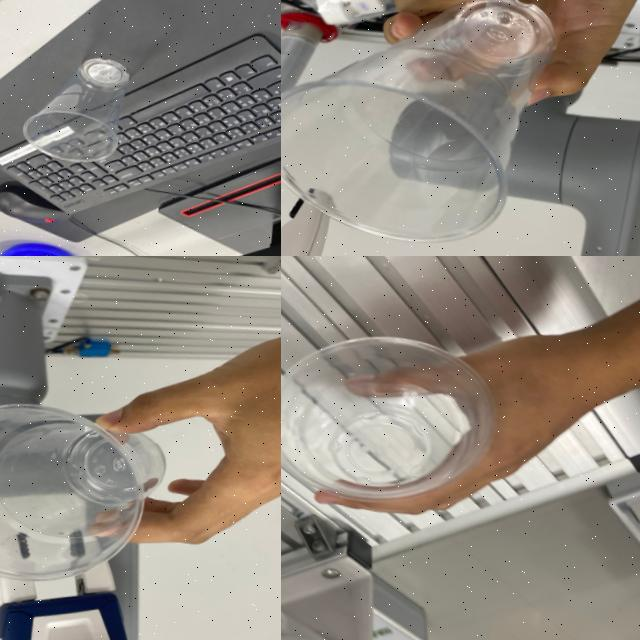glass: (281, 0, 610, 256), (281, 315, 520, 531), (0, 390, 186, 605), (19, 44, 148, 178)
